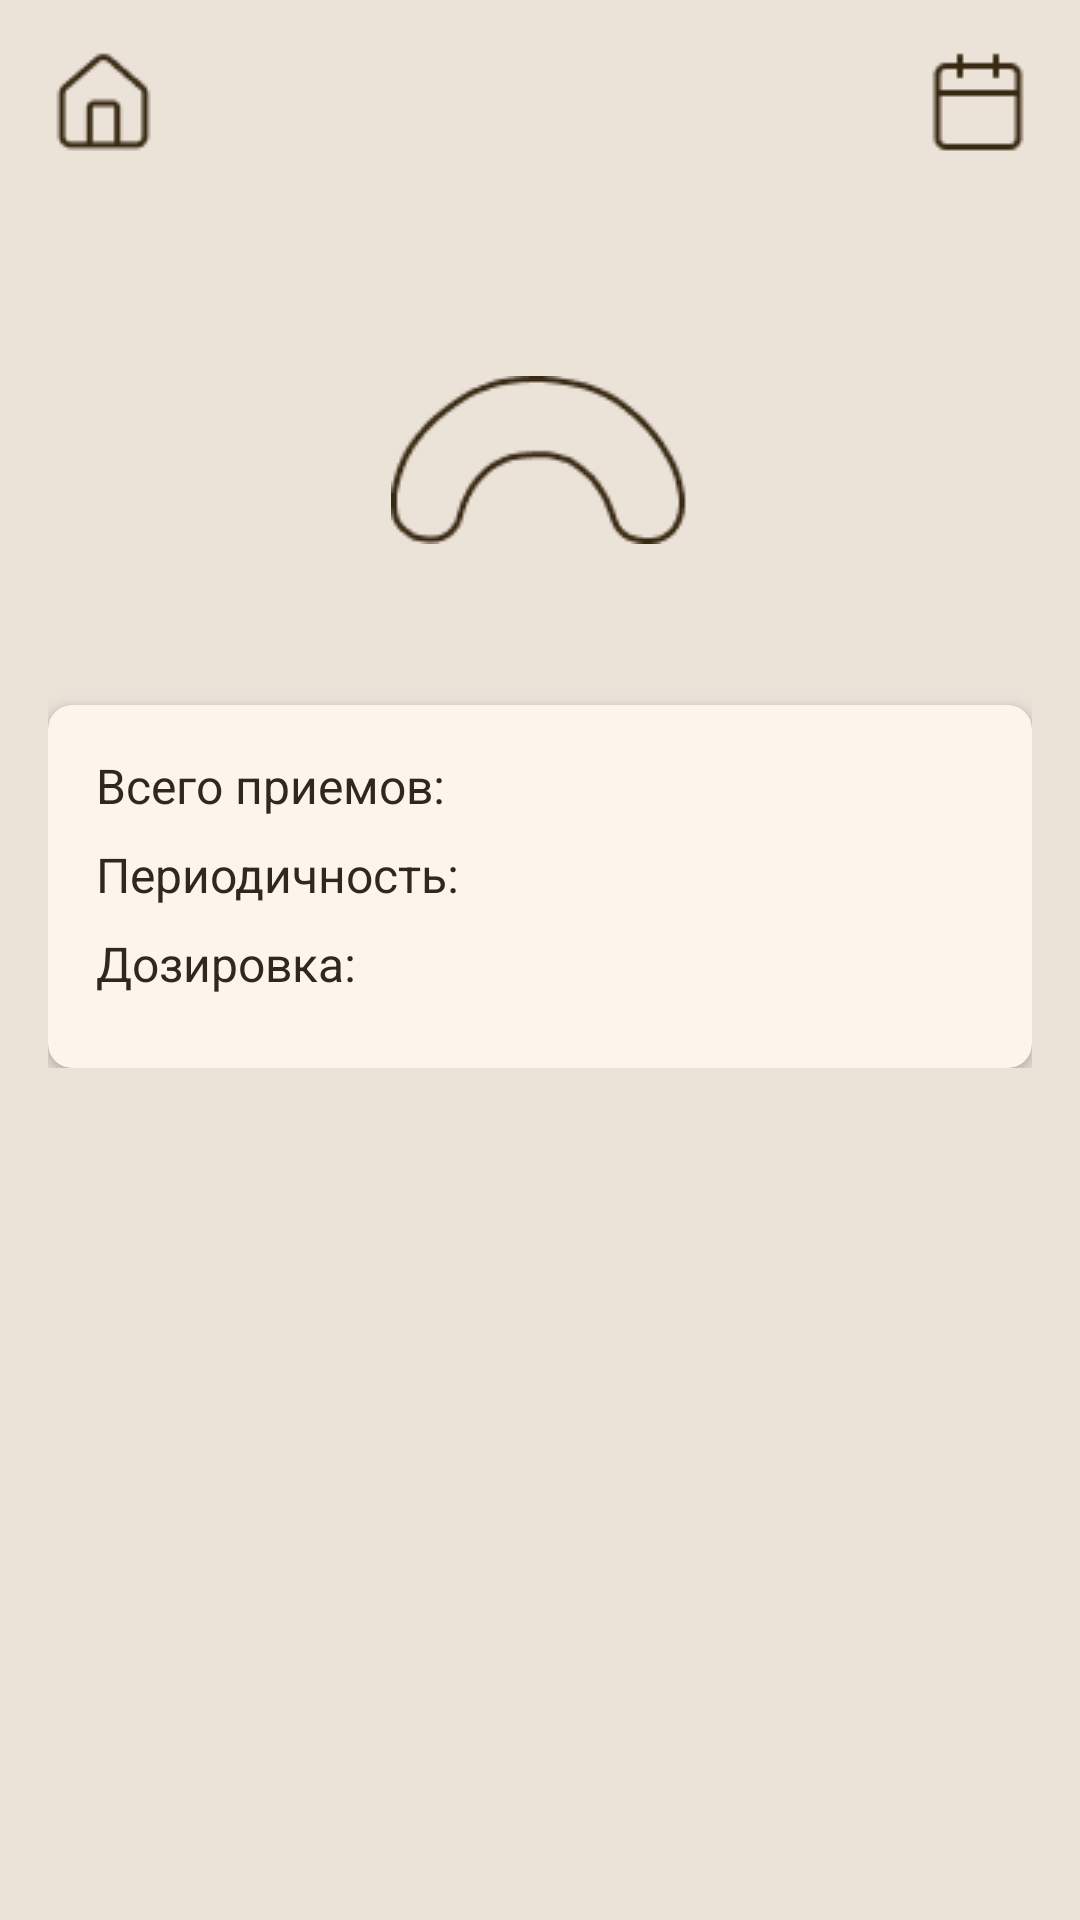

Icons on this 1080x1920 Android screen, each with its box as (x1=x1, y1=y1, x2=x2, y2=y2):
progress bar: (x1=391, y1=376, x2=686, y2=544)
